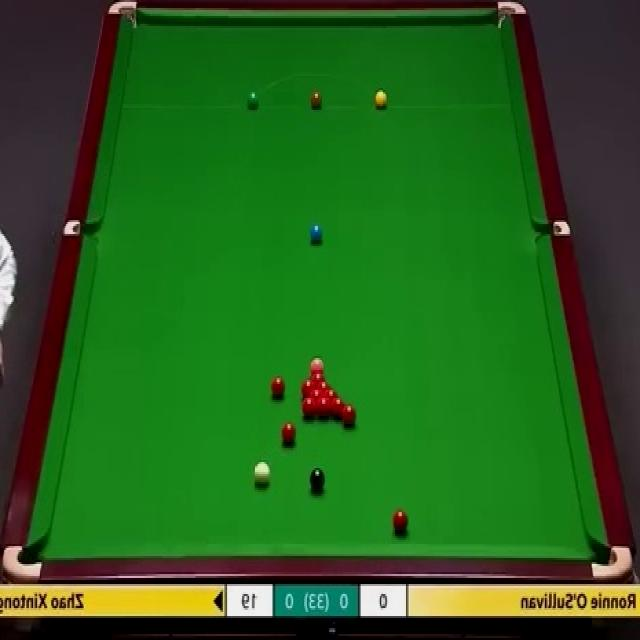black-ball: (309, 466, 325, 492)
blue-ball: (309, 222, 324, 245)
brown-ball: (309, 91, 322, 111)
green-ball: (245, 91, 261, 112)
pink-ball: (310, 358, 324, 368)
red-ball: (392, 508, 408, 536), (268, 377, 286, 399), (301, 397, 317, 421), (281, 424, 296, 446), (342, 405, 356, 425), (300, 379, 314, 398), (318, 398, 330, 419), (332, 401, 345, 419), (310, 371, 322, 387), (309, 389, 322, 402), (323, 390, 337, 400), (317, 380, 330, 390)
white-ball: (254, 461, 272, 487)
yellow-ball: (375, 90, 388, 110)
